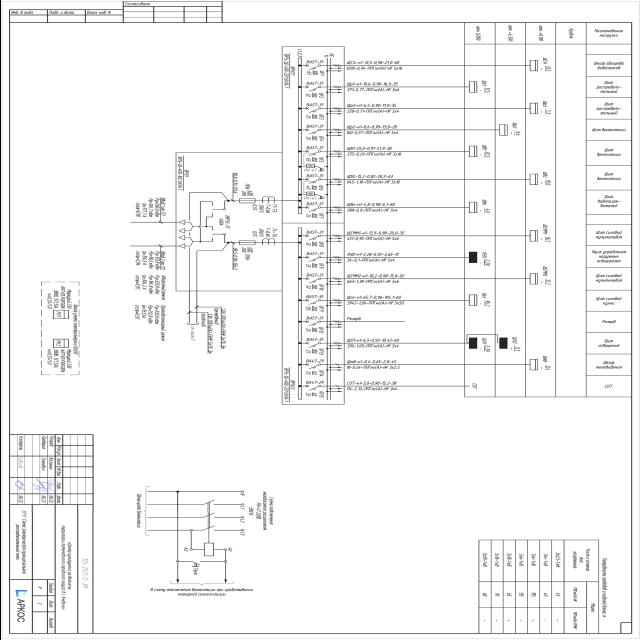-: (175, 156, 182, 192), (250, 204, 270, 214), (250, 227, 270, 237), (216, 215, 230, 229), (240, 247, 252, 260), (240, 184, 253, 196)
FU: (238, 240, 256, 246), (238, 198, 255, 204)
TT: (260, 196, 276, 204), (260, 238, 276, 246)
switch: (208, 202, 224, 218), (208, 226, 224, 242)
